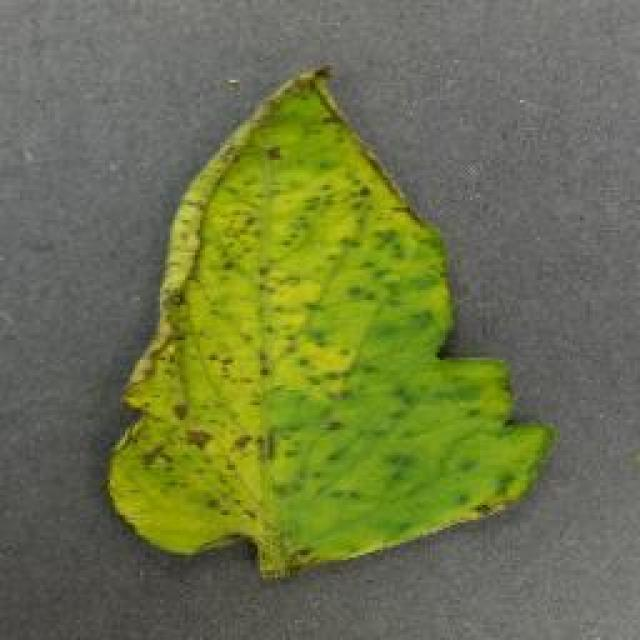Tomato bacterial spot leaf: (100, 56, 557, 572)
